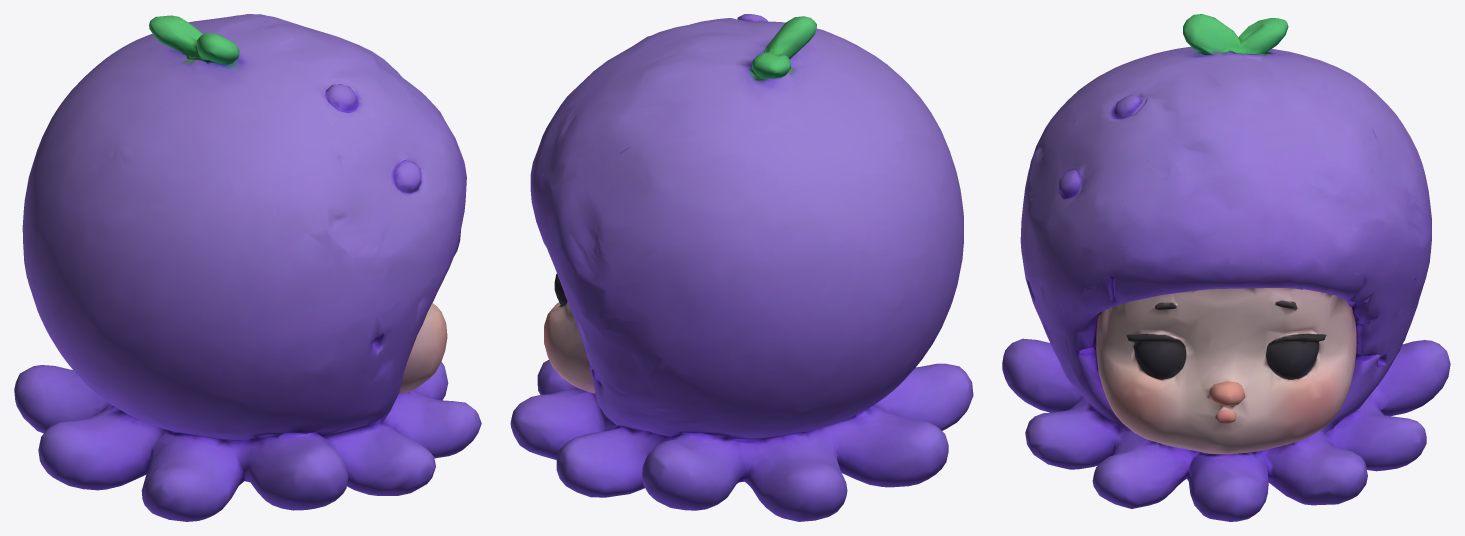
Rendered from head.glb.
3 views of the same model, side by side, from view 1: azimuth 30°, elevation 25°; view 2: azimuth 150°, elevation 25°; view 3: azimuth 270°, elevation 25° (orthographic). The views are drawn at different scales.
Parts seen in each view (by area): view 1: tripo_node_873ff8e7-7515-4d09-a8df-7e3418704d73; view 2: tripo_node_873ff8e7-7515-4d09-a8df-7e3418704d73; view 3: tripo_node_873ff8e7-7515-4d09-a8df-7e3418704d73.
Boxes of the visible parts, x1,y1,x2,y2 form: tripo_node_873ff8e7-7515-4d09-a8df-7e3418704d73: (14, 14, 481, 521); tripo_node_873ff8e7-7515-4d09-a8df-7e3418704d73: (510, 14, 973, 521); tripo_node_873ff8e7-7515-4d09-a8df-7e3418704d73: (1002, 14, 1450, 521).
Size of the model in its own units: 0.9634 by 1 by 0.9987.
Materials: 1 (1 with a texture image).
